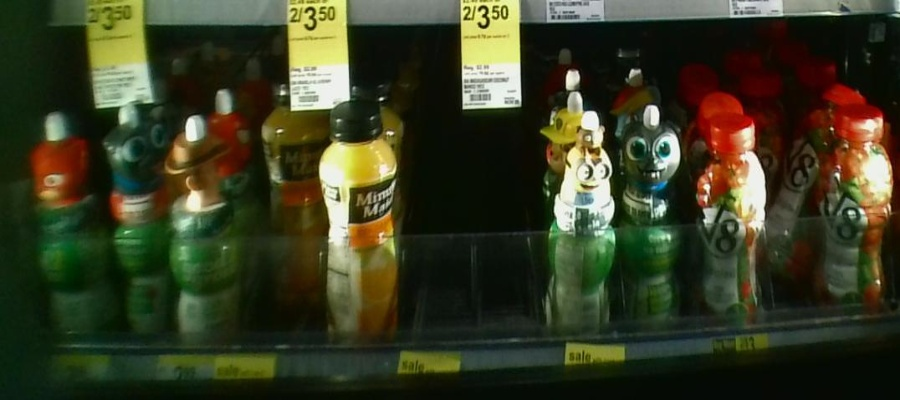bottle: (325, 94, 400, 340), (252, 80, 325, 329), (689, 112, 770, 333), (167, 111, 242, 348), (28, 109, 103, 339), (548, 109, 616, 339), (616, 101, 684, 330), (823, 95, 893, 314), (104, 100, 165, 343), (770, 110, 815, 297)
